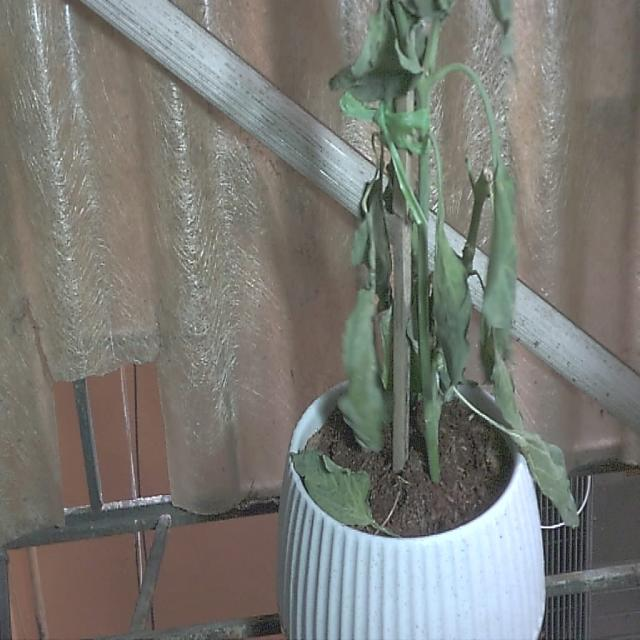Leaf: (432, 214, 471, 391)
